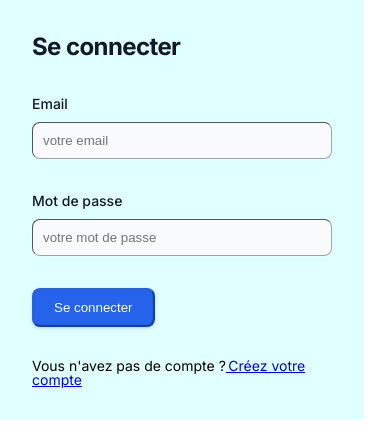
Test case: When user try to login › should display matching error when email is invalid
Type "test" into the field labelled "Email" at (182, 140), box left=32, top=122, right=332, bottom=159
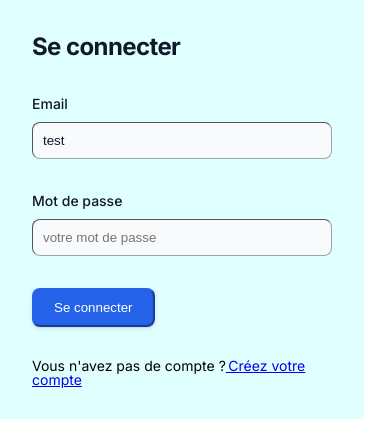
Type "password" into the password field labelled "Mot de passe" at (182, 238), box left=32, top=219, right=332, bottom=256
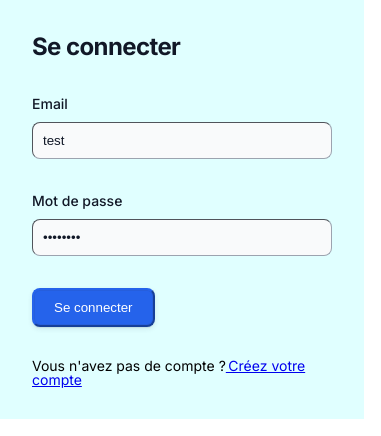
Submit the form from the button, box left=32, top=288, right=154, bottom=327
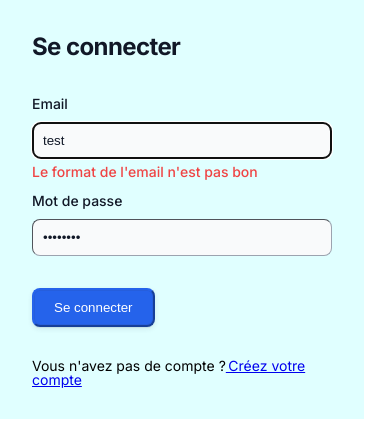
Expected: the number of messages is 1, left=32, top=162, right=258, bottom=182
